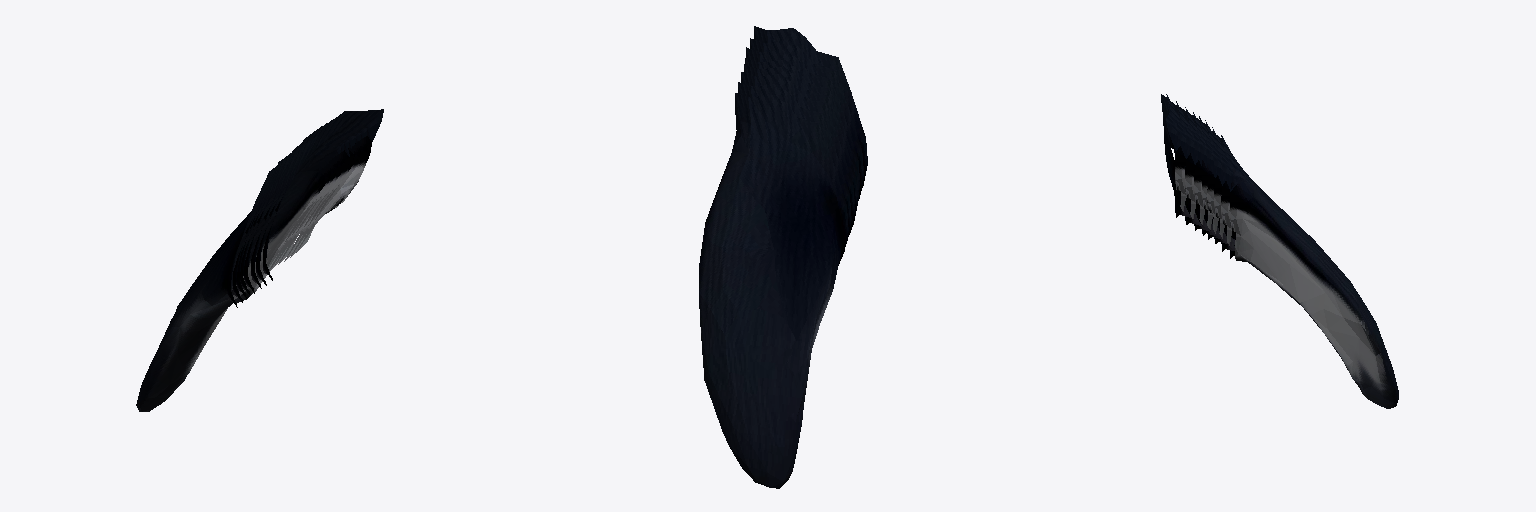
The picture shows the model from 3 angles: view 1: azimuth 30°, elevation 25°; view 2: azimuth 150°, elevation 25°; view 3: azimuth 270°, elevation 25°; orthographic projection.
Parts seen in each view (by area): view 1: arm2; view 2: arm2; view 3: arm2.
Part boxes in pixels (x1,y1,x2,y2): arm2: (136, 109, 383, 411); arm2: (699, 26, 867, 488); arm2: (1161, 94, 1398, 408).
Bounding box in the file's own units: 0.1573 × 0.3778 × 0.2288.
1 materials, 1 textured.